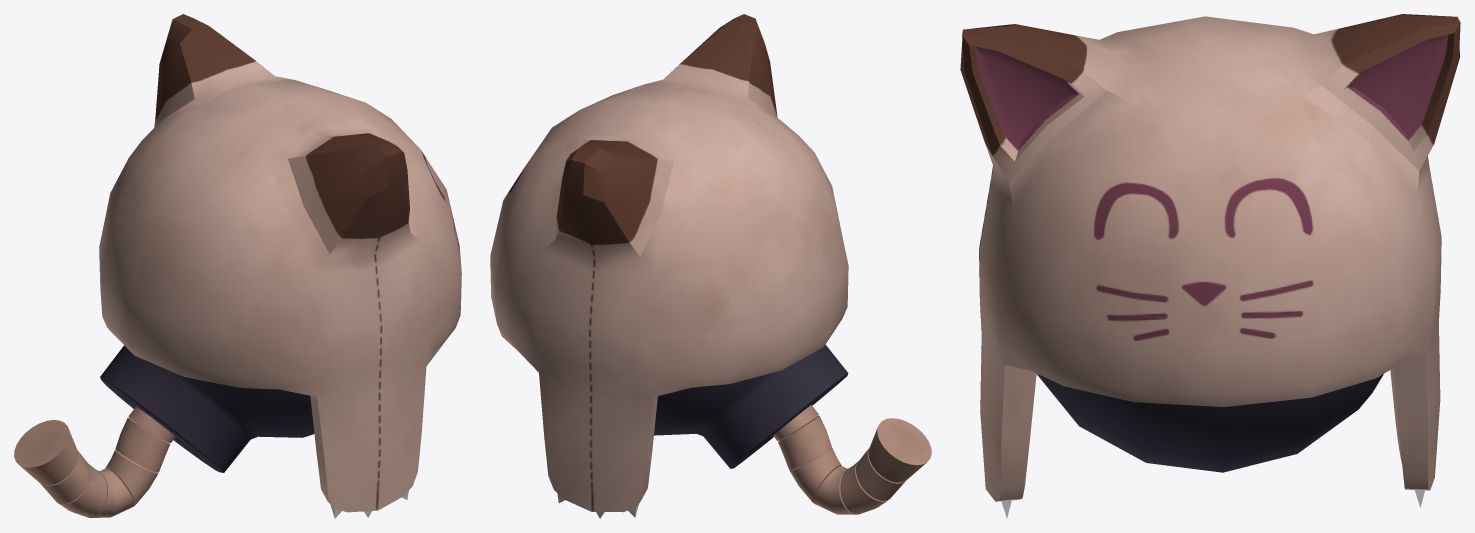
The model's file is Cat'a'Bomba.fbx.
3 renders of one model, left to right at view 1: azimuth 30°, elevation 25°; view 2: azimuth 150°, elevation 25°; view 3: azimuth 270°, elevation 25°, orthographic. The views are drawn at different scales.
Visible parts, largest first — view 1: Vert.011; view 2: Vert.011; view 3: Vert.011.
Part boxes in pixels (<box>): Vert.011: <box>14,14,461,518</box>; Vert.011: <box>490,14,931,518</box>; Vert.011: <box>960,14,1460,518</box>.
Bounding box in the file's own units: 114 × 100 × 92.29.
3 materials, 2 textured.
